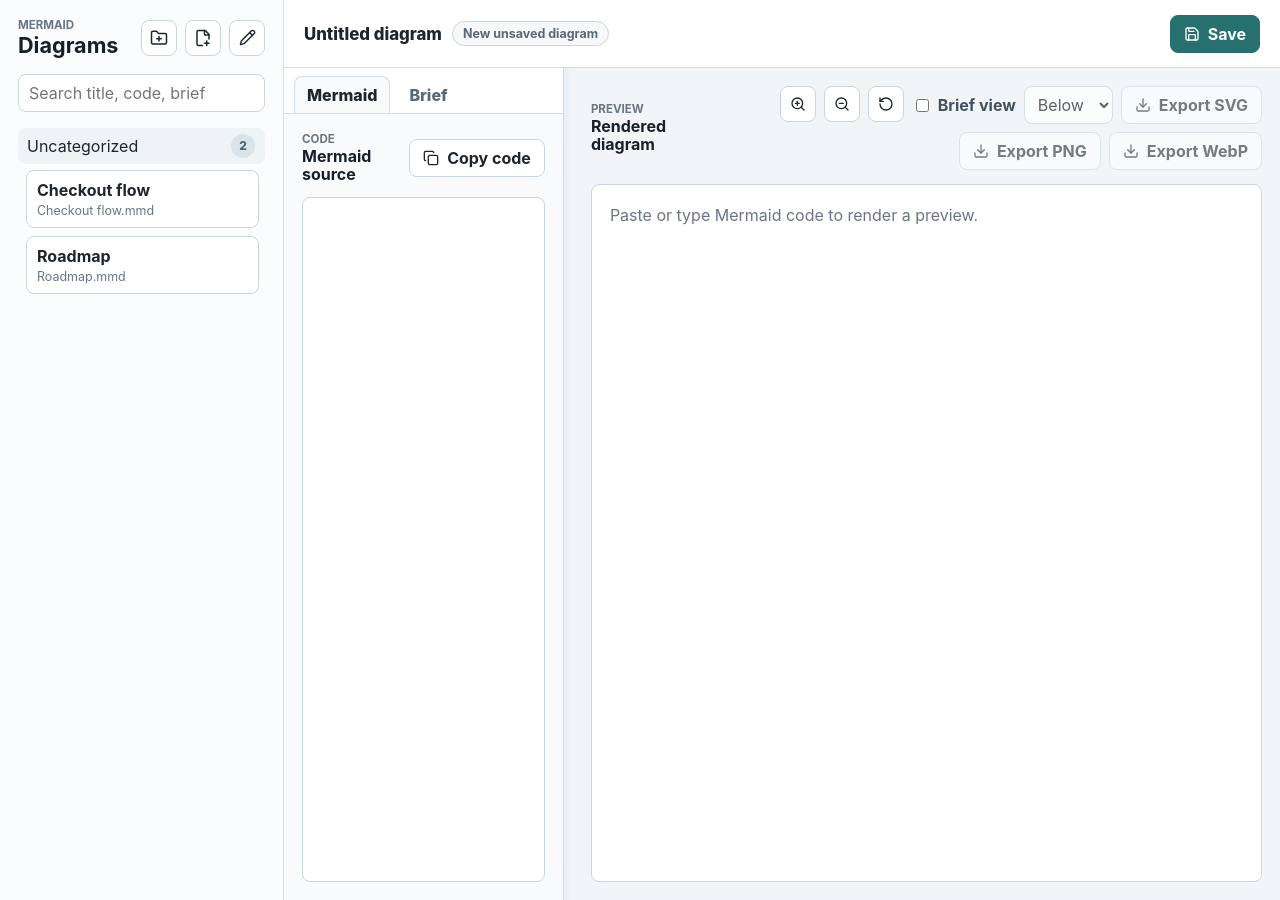
Test: App › filters the sidebar with server-side title, code, and brief search
In the search field named "search diagrams": (142, 93) [18,74,265,112], type "manual booking"
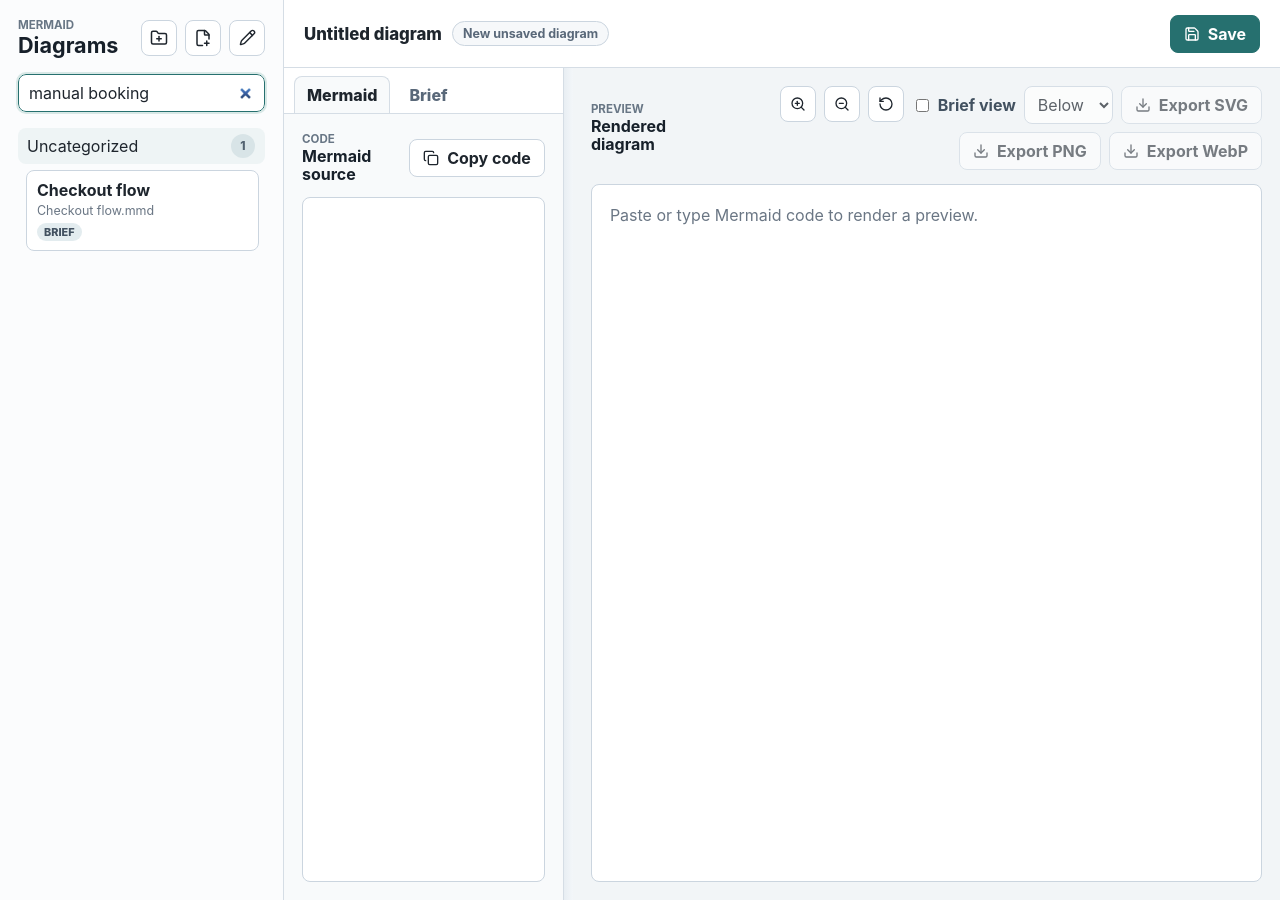
Expected: the text "Checkout flow" is shown, [37,180,150,200]
Result: the text "brief" is shown at [37,223,82,241]
Result: the button "Roadmap" is gone
